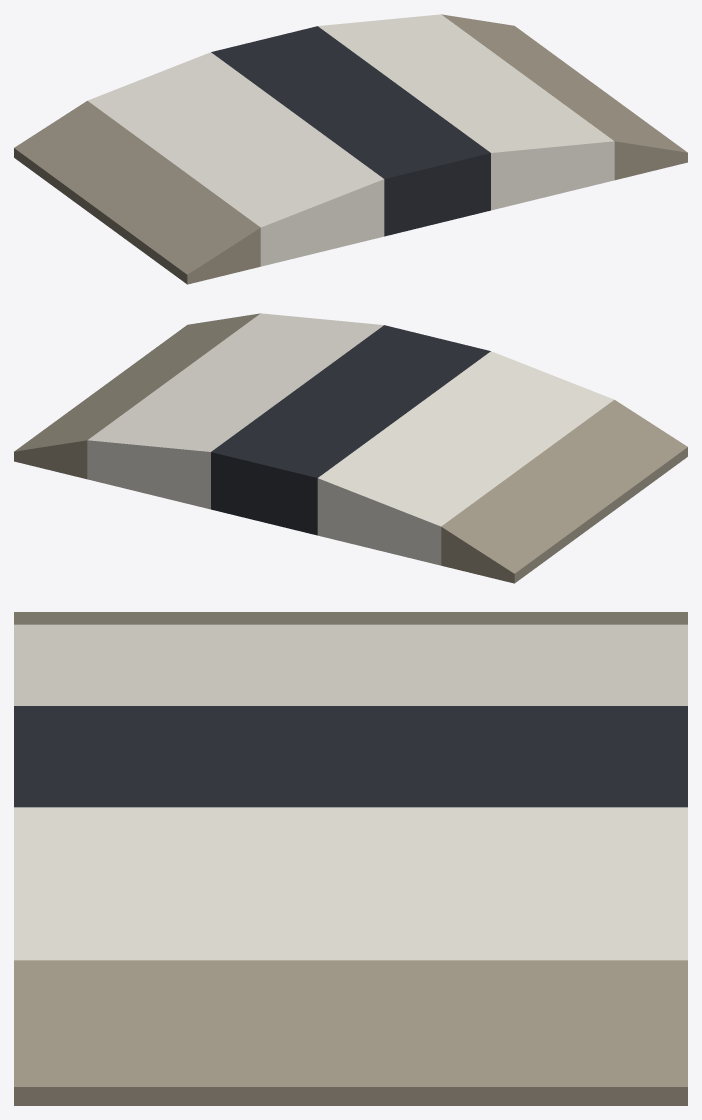
The model's file is sugar_packet.glb.
The picture shows the model from 3 angles, top to bottom: view 1: azimuth 30°, elevation 25°; view 2: azimuth 150°, elevation 25°; view 3: azimuth 270°, elevation 25°; orthographic projection. The views are drawn at different scales.
Parts seen in each view (by area): view 1: sugar_packet; view 2: sugar_packet; view 3: sugar_packet.
Part boxes in pixels (x1,y1,x2,y2): sugar_packet: (14, 14, 687, 284); sugar_packet: (14, 313, 687, 583); sugar_packet: (14, 612, 687, 1105).
Size of the model in its own units: 0.075 by 0.00823 by 0.045.
